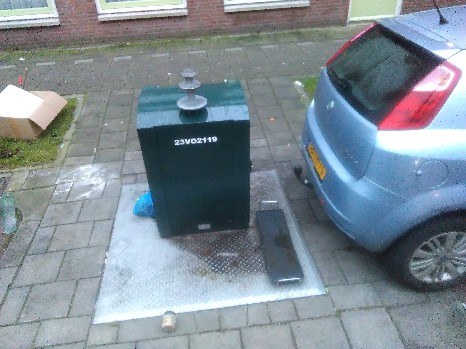Container: (133, 89, 249, 228)
Rest: (129, 179, 154, 218)
Voertuig: (305, 12, 466, 288)
